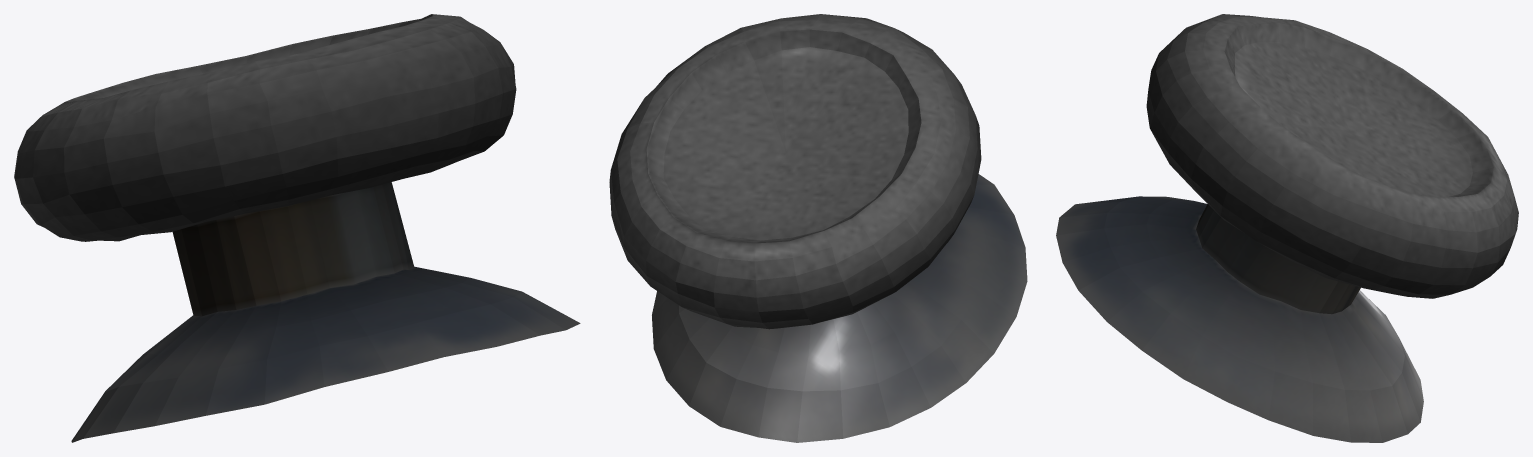
The model's file is pfd_mr_controller_right_joystick.obj.
The picture shows the model from 3 angles, left to right: view 1: azimuth 30°, elevation 25°; view 2: azimuth 150°, elevation 25°; view 3: azimuth 270°, elevation 25°; orthographic projection. The views are drawn at different scales.
Parts seen in each view (by area): view 1: pfd_mr_controller_right_joystick; view 2: pfd_mr_controller_right_joystick; view 3: pfd_mr_controller_right_joystick.
Boxes of the visible parts, x1,y1,x2,y2 form: pfd_mr_controller_right_joystick: (14, 14, 580, 442); pfd_mr_controller_right_joystick: (609, 14, 1027, 442); pfd_mr_controller_right_joystick: (1056, 14, 1518, 442).
Size of the model in its own units: 0.0135 by 0.0129 by 0.0152.
Materials: 1 (1 with a texture image).
